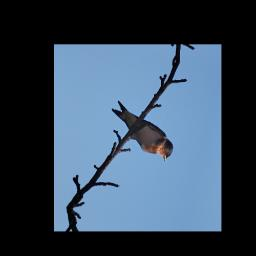Swallow: (102, 99, 182, 163)
